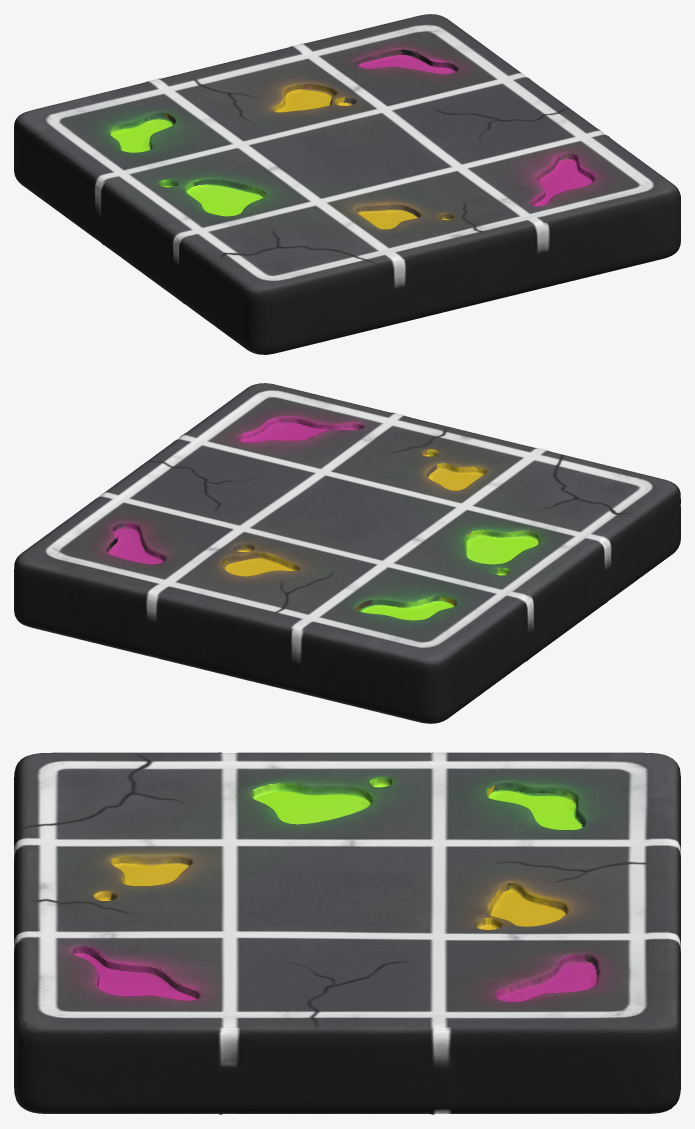
File: u_ter_asphalt.glb
The picture shows the model from 3 angles, top to bottom: view 1: azimuth 30°, elevation 25°; view 2: azimuth 150°, elevation 25°; view 3: azimuth 270°, elevation 25°; orthographic projection. The views are drawn at different scales.
Visible parts, largest first — view 1: geometry_0; view 2: geometry_0; view 3: geometry_0.
Boxes of the visible parts, bbox=[...] form: geometry_0: bbox=[14, 14, 680, 354]; geometry_0: bbox=[14, 383, 680, 723]; geometry_0: bbox=[14, 752, 680, 1114].
Size of the model in its own units: 0.3 by 0.0449 by 0.3.
1 material, 1 textured.
